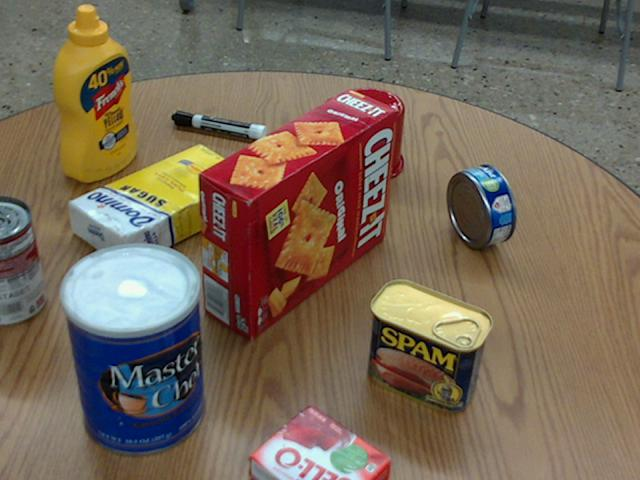cracker_box: (200, 89, 396, 336)
gelatin_box: (247, 405, 391, 479)
large_marker: (172, 110, 266, 139)
master_chef_can: (60, 243, 204, 455)
mug: (320, 88, 404, 181)
mustard_bottle: (55, 6, 135, 181)
potted_meat_can: (367, 278, 491, 411)
sugar_box: (68, 142, 251, 268)
tomato_soup_can: (0, 195, 44, 324)
tuna_fish_can: (445, 163, 515, 246)
